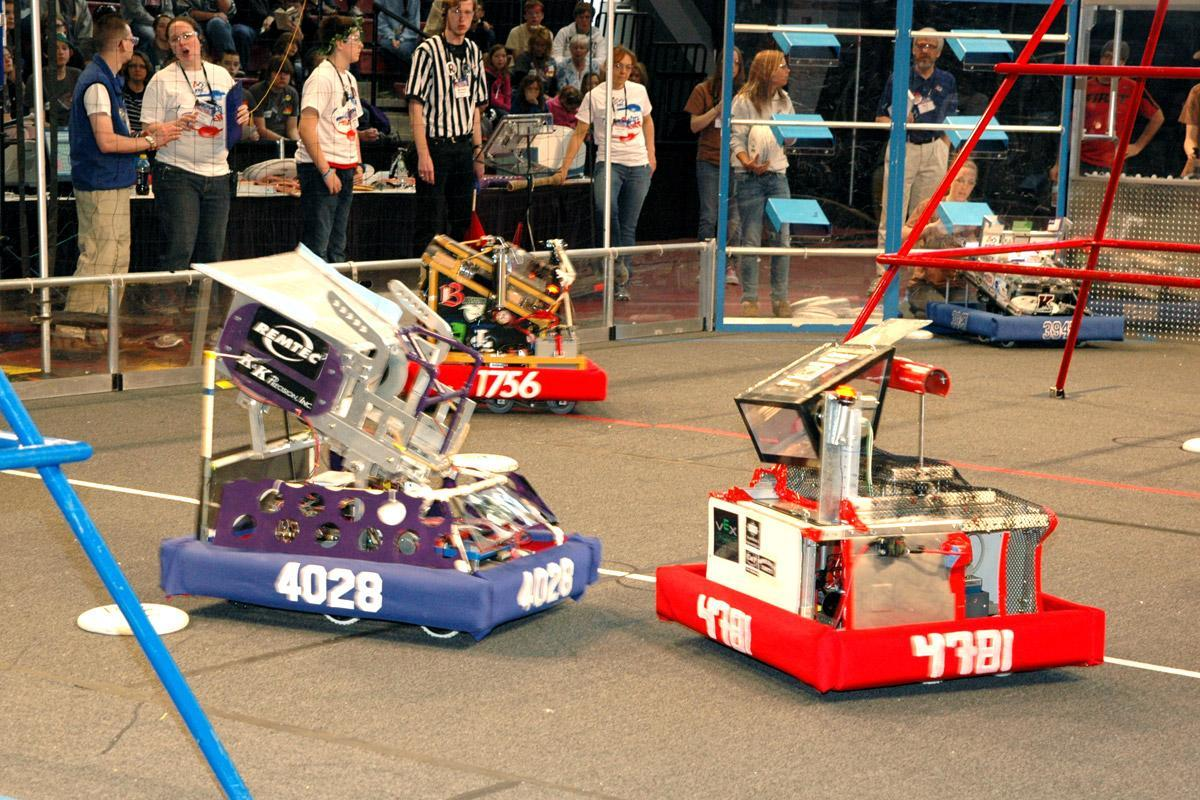robot: (160, 240, 606, 644), (654, 311, 1108, 702), (398, 237, 610, 419), (918, 211, 1132, 352)
